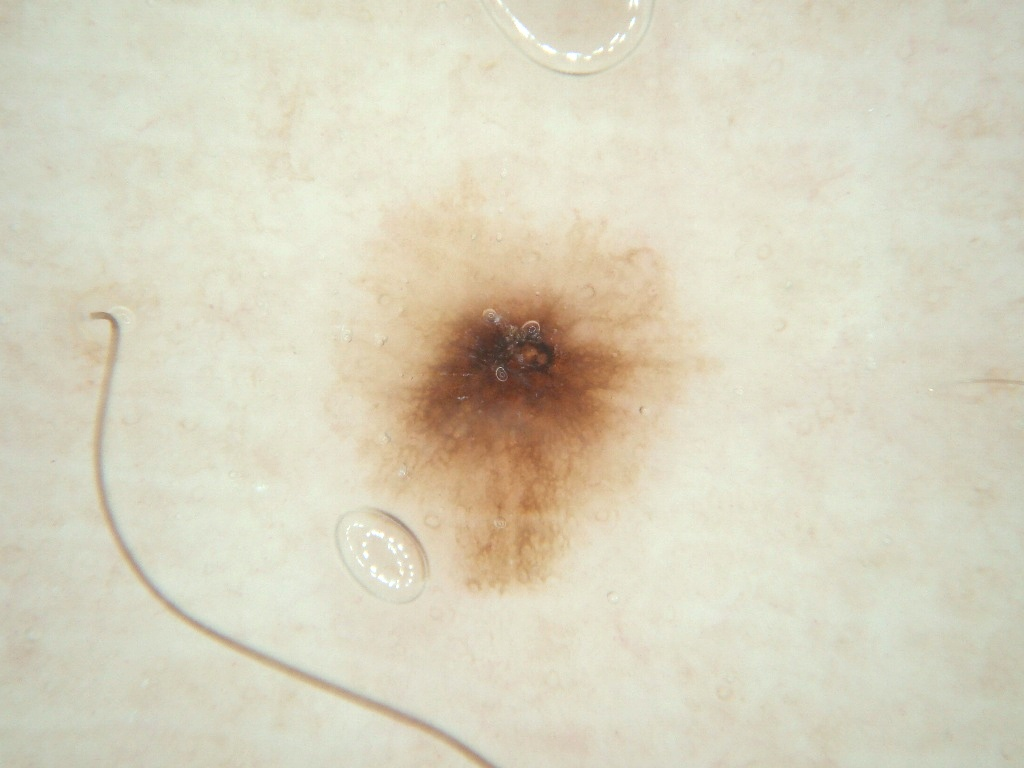Detected Lesion: (367, 216, 676, 594)
